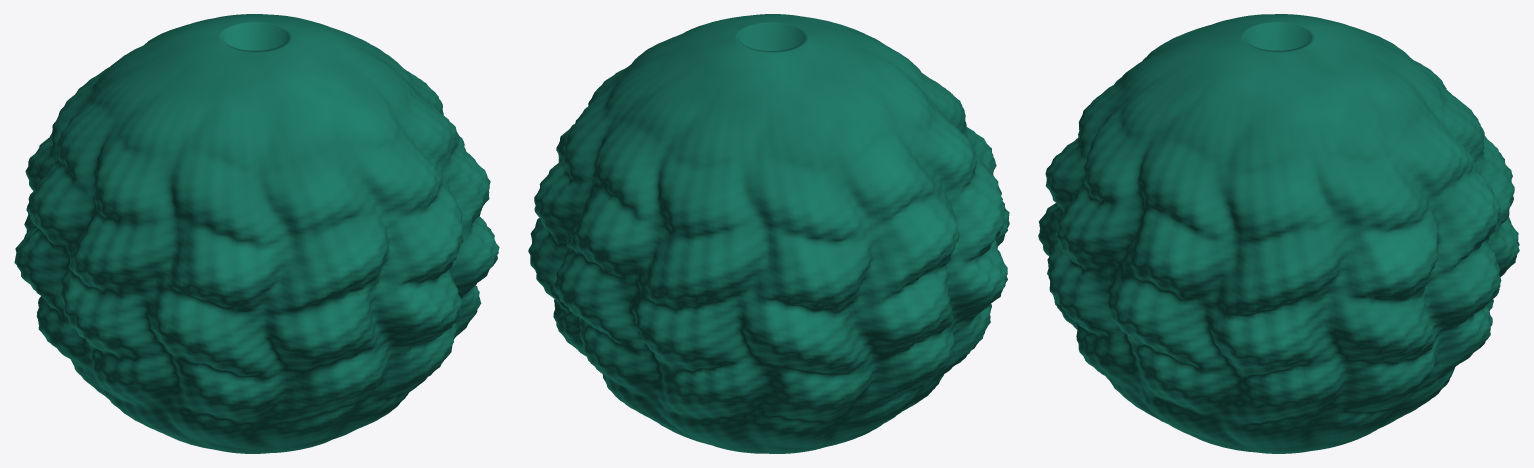
Rendered from vajra.glb.
The picture shows the model from 3 angles, left to right: view 1: azimuth 30°, elevation 25°; view 2: azimuth 150°, elevation 25°; view 3: azimuth 270°, elevation 25°; orthographic projection.
Visible parts, largest first — view 1: 金刚珠; view 2: 金刚珠; view 3: 金刚珠.
Part boxes in pixels (left/top/right/bottom): 金刚珠: left=14, top=14, right=499, bottom=453; 金刚珠: left=528, top=14, right=1009, bottom=453; 金刚珠: left=1038, top=14, right=1519, bottom=453.
Bounding box in the file's own units: 0.00874 × 0.00791 × 0.00876.
